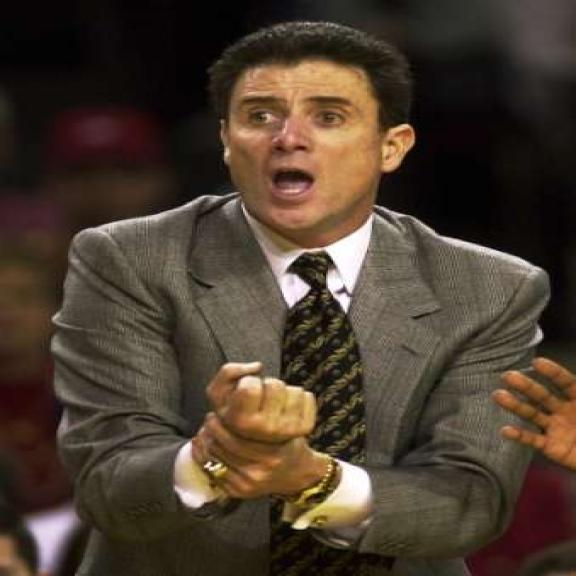face: (216, 53, 420, 239)
